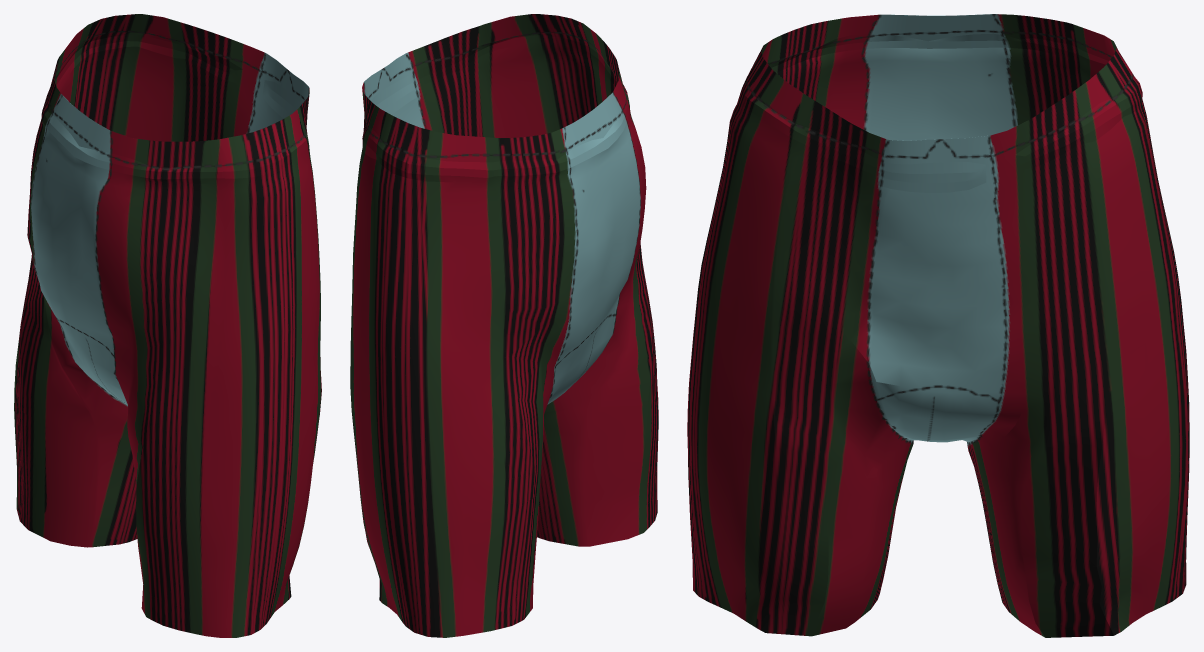
Rendered from Pantalon.fbx.
The picture shows the model from 3 angles, left to right: view 1: azimuth 30°, elevation 25°; view 2: azimuth 150°, elevation 25°; view 3: azimuth 270°, elevation 25°; orthographic projection. The views are drawn at different scales.
Parts seen in each view (by area): view 1: Pantalon; view 2: Pantalon; view 3: Pantalon.
Part boxes in pixels (x1,y1,x2,y2): Pantalon: (14,14,321,637); Pantalon: (350,14,658,637); Pantalon: (687,14,1189,637).
Size of the model in its own units: 2414 by 4897 by 3879.
1 material, 1 textured.
